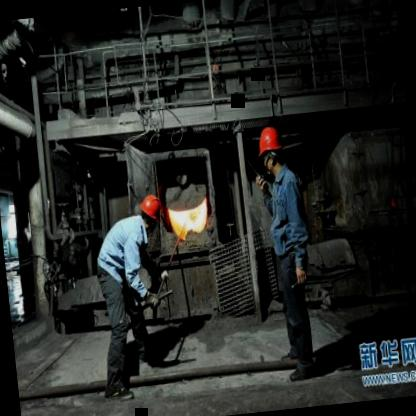helmet: (252, 121, 289, 182), (138, 192, 166, 228)
